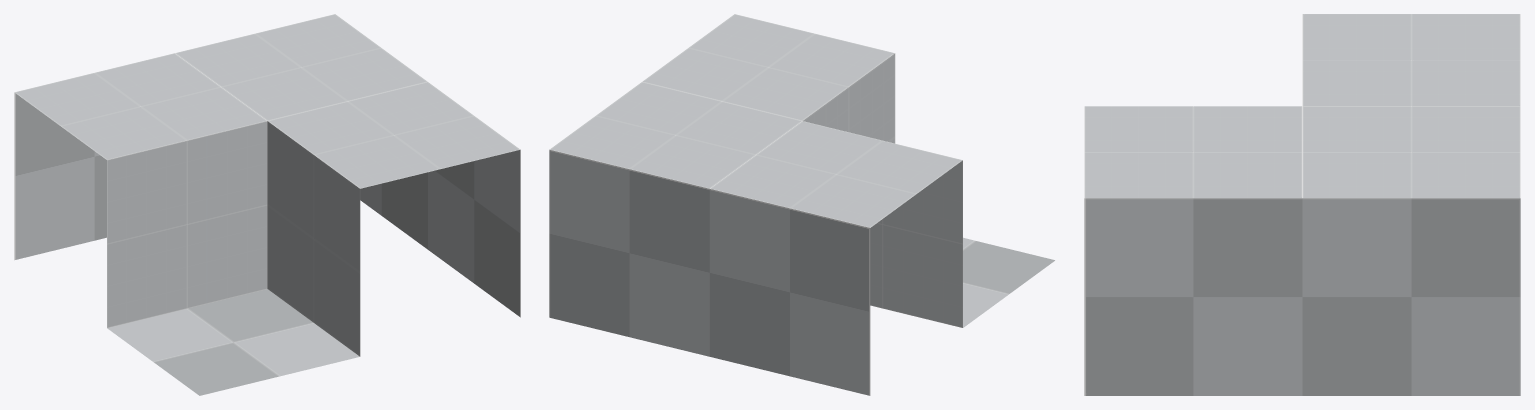
Rendered from corner_inner0101.glb.
3 views of the same model, side by side, from view 1: azimuth 30°, elevation 25°; view 2: azimuth 150°, elevation 25°; view 3: azimuth 270°, elevation 25° (orthographic). The views are drawn at different scales.
Visible parts, largest first — view 1: Plane; view 2: Plane; view 3: Plane.
Boxes of the visible parts, <box> form: Plane: <box>14,14,520,395</box>; Plane: <box>549,14,1054,395</box>; Plane: <box>1084,14,1520,395</box>.
Bounding box in the file's own units: 10 × 5 × 10.
2 materials, 2 textured.
